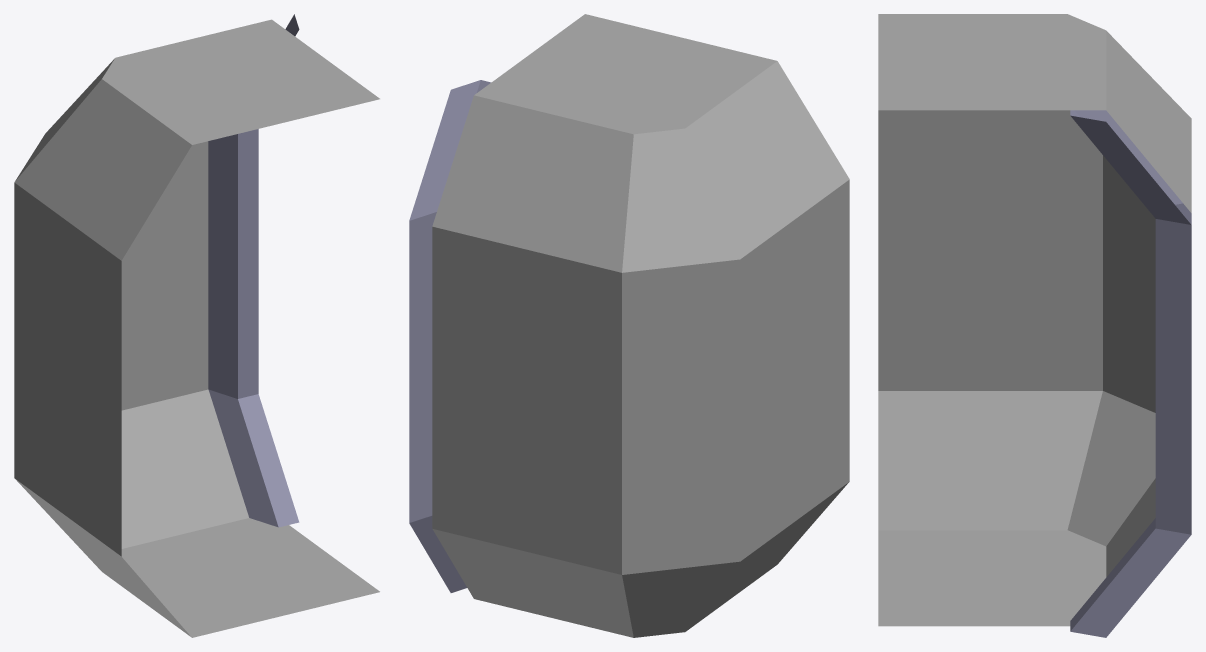
The model's file is SS_Tile_CornerO_v02.fbx.
3 renders of one model, left to right at view 1: azimuth 30°, elevation 25°; view 2: azimuth 150°, elevation 25°; view 3: azimuth 270°, elevation 25°, orthographic. The views are drawn at different scales.
Parts seen in each view (by area): view 1: pCube17; view 2: pCube17; view 3: pCube17.
Part boxes in pixels (x1=…): pCube17: x1=14, y1=14, x2=379, y2=637; pCube17: x1=409, y1=14, x2=849, y2=637; pCube17: x1=878, y1=14, x2=1191, y2=637.
Bounding box in the file's own units: 1.49 × 2.5 × 1.38.
